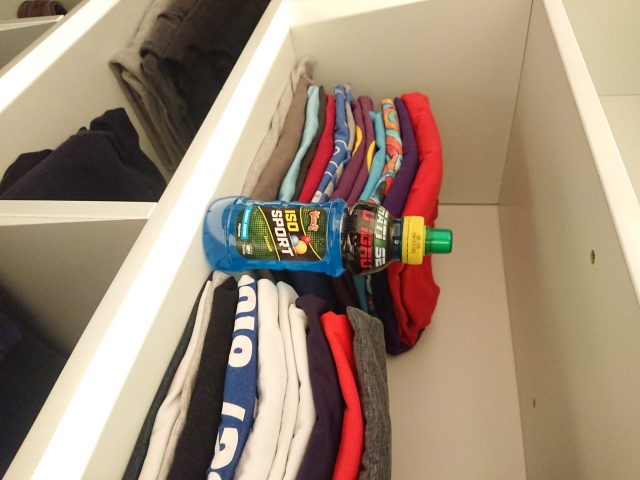Vindi Iso Sport Forest Strawberries 500mL: (201, 194, 455, 279)
